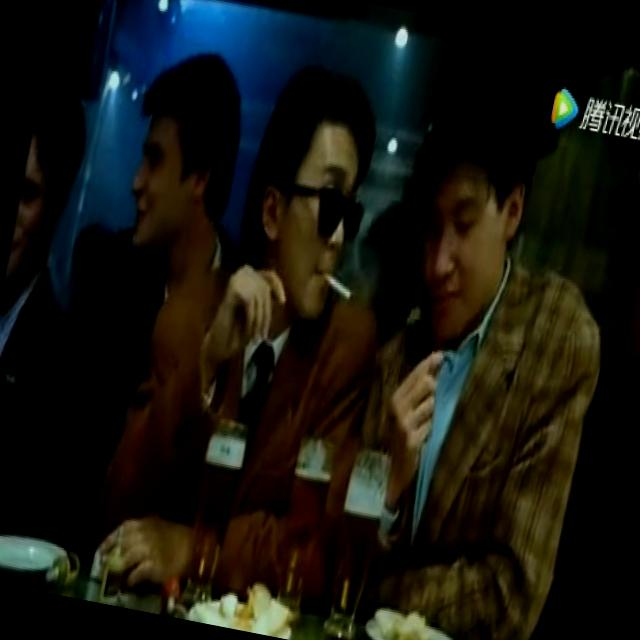smoke: (315, 266, 362, 308)
